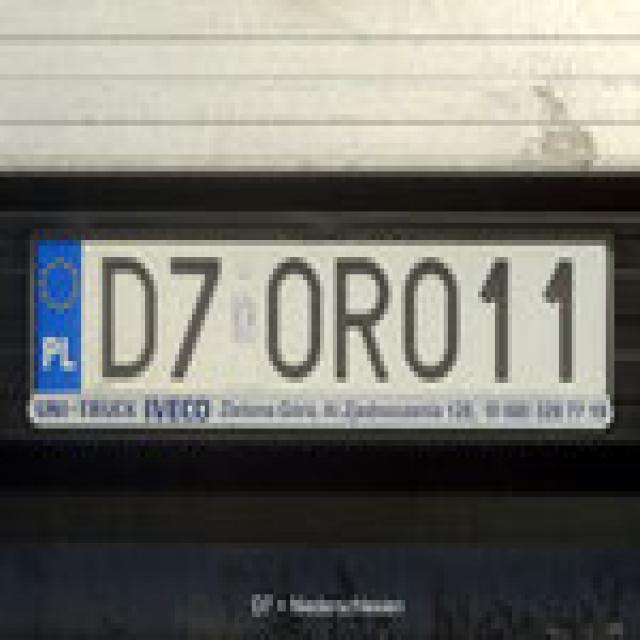pl_license_plate: (30, 234, 606, 389)
